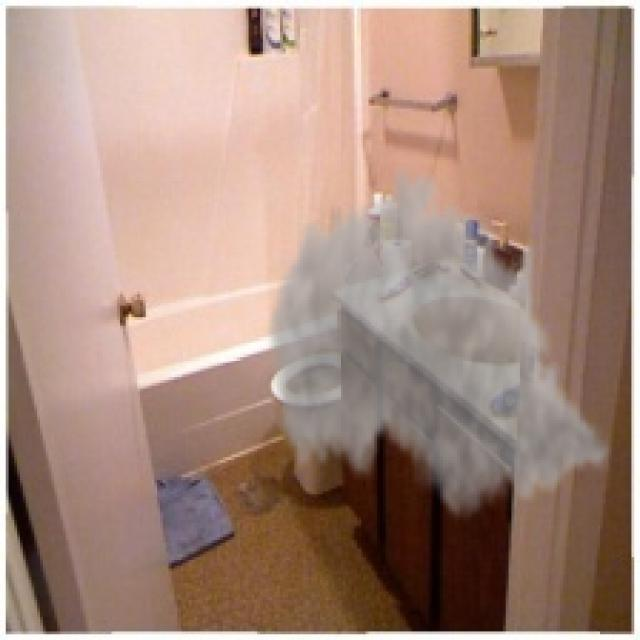Smoke: (262, 157, 614, 529)
